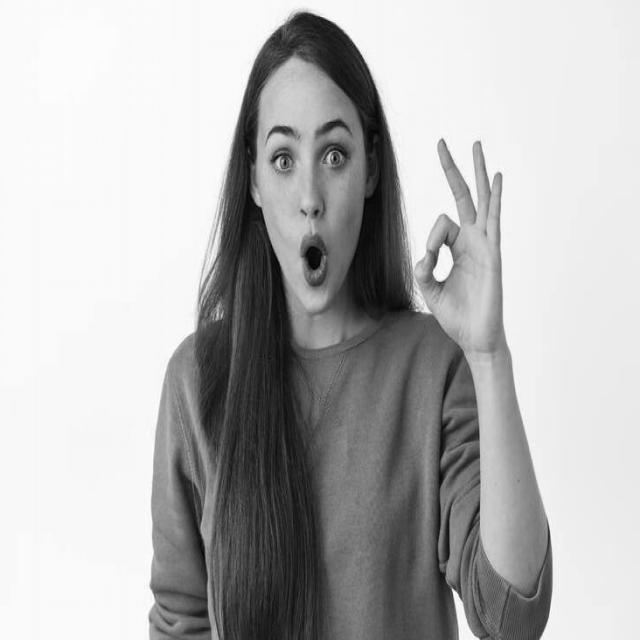perfect: (408, 128, 516, 359)
